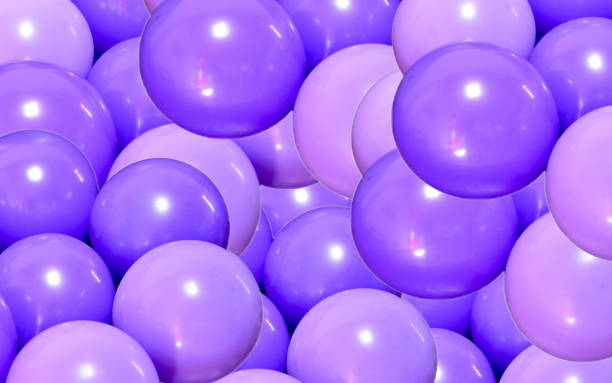Balloon: (391, 41, 555, 200), (350, 149, 512, 298), (137, 1, 307, 140), (111, 241, 261, 378), (287, 289, 438, 383), (1, 128, 94, 240), (7, 318, 160, 383), (548, 107, 612, 259)
